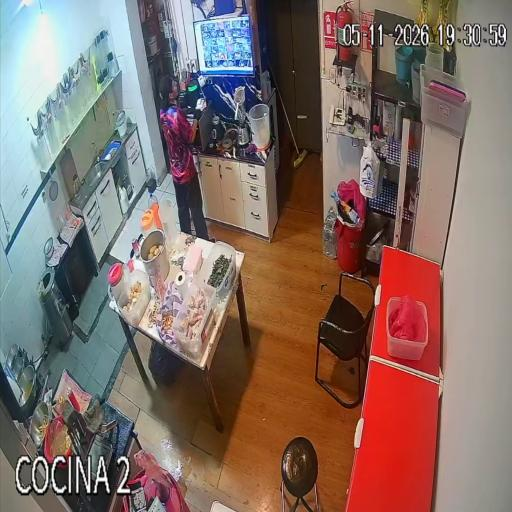Balde: (248, 103, 271, 150)
Envase Ketchup: (66, 387, 79, 411)
Envase Llajua: (58, 396, 65, 406)
Jarra1: (108, 263, 126, 299)
Jarra2: (141, 209, 157, 234)
Jarra3: (159, 196, 178, 244)
JarraLicuadora: (73, 174, 81, 196)
Microondas: (195, 103, 213, 150)
Persona1: (159, 75, 209, 239)
Taper: (199, 241, 236, 301)
Taper2: (173, 281, 216, 356)
Taper3: (117, 270, 150, 326)
Taper4: (386, 325, 428, 360), (416, 301, 428, 329), (386, 297, 400, 320)
olla1: (140, 229, 169, 289)
